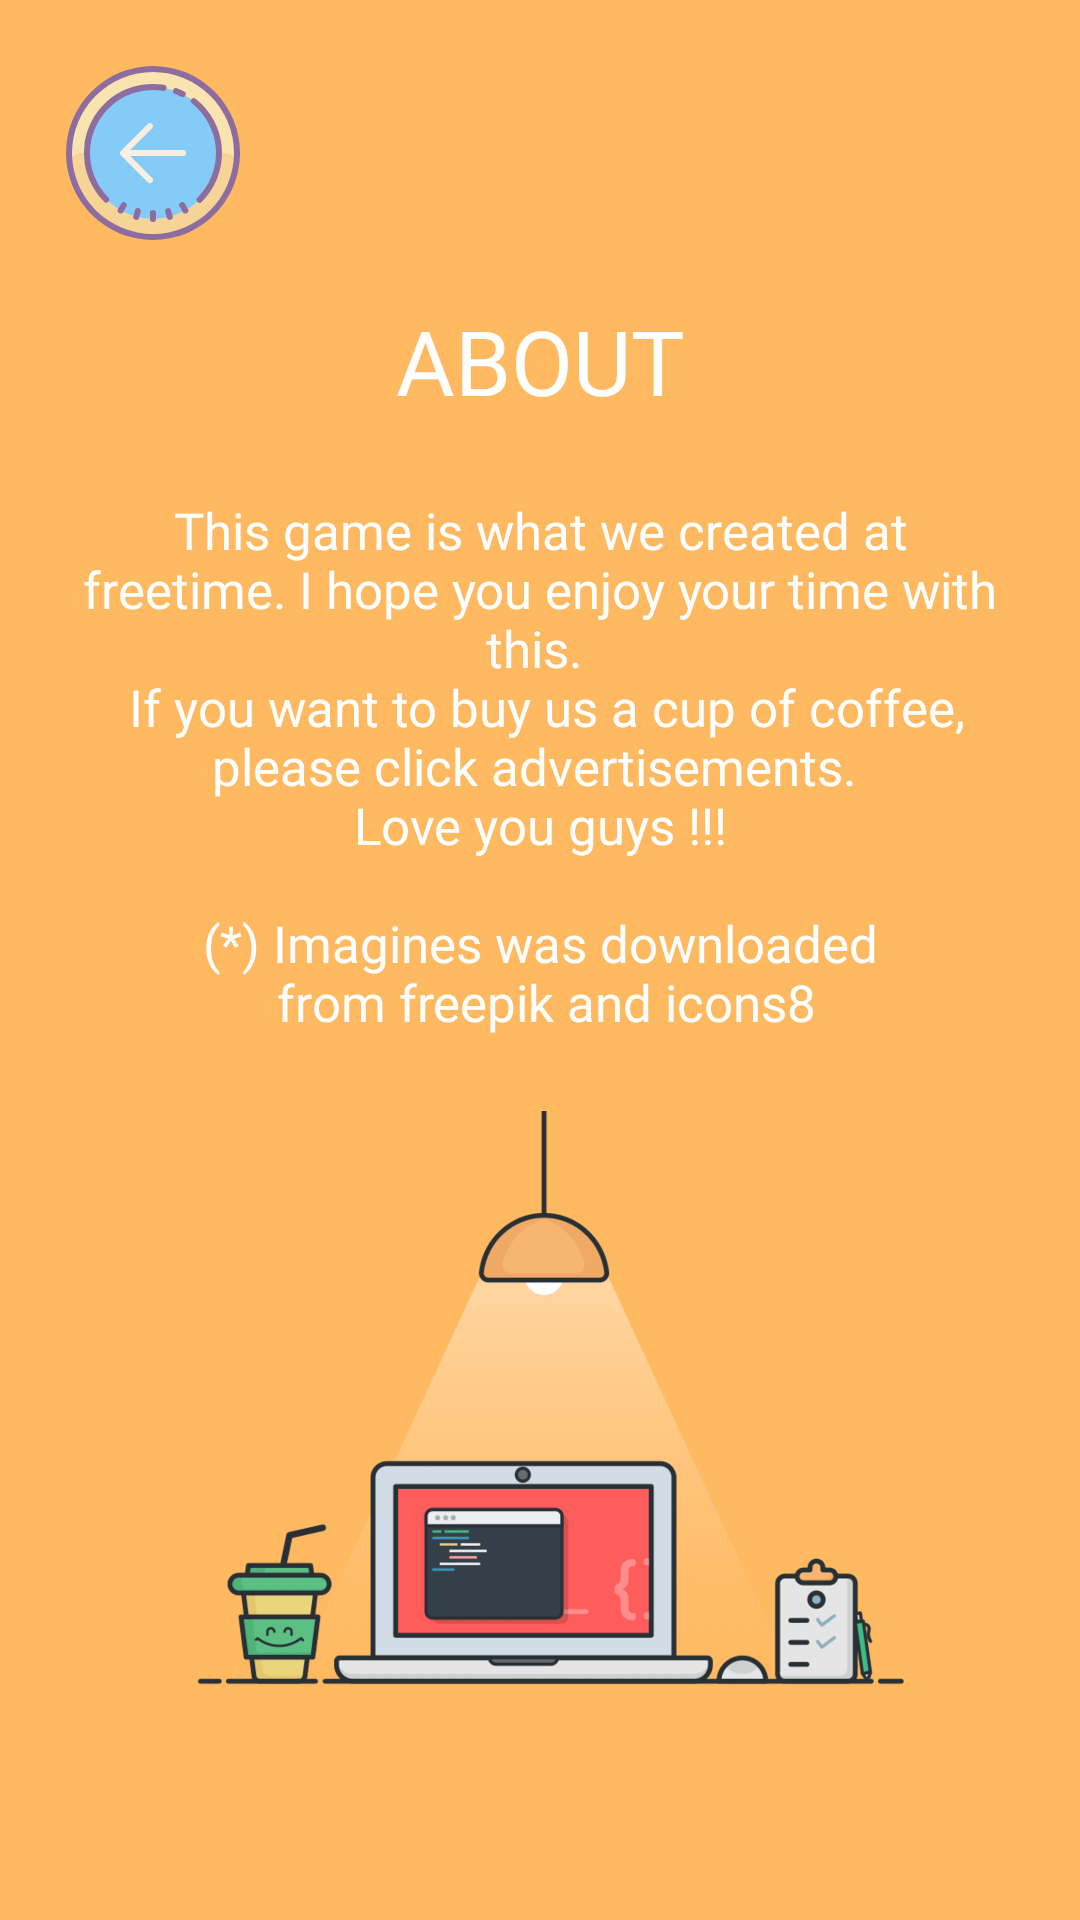

Icons on this 1080px x 1920px Android screen, each with the point to tap as [x,y]:
Back to main: [153,153]
